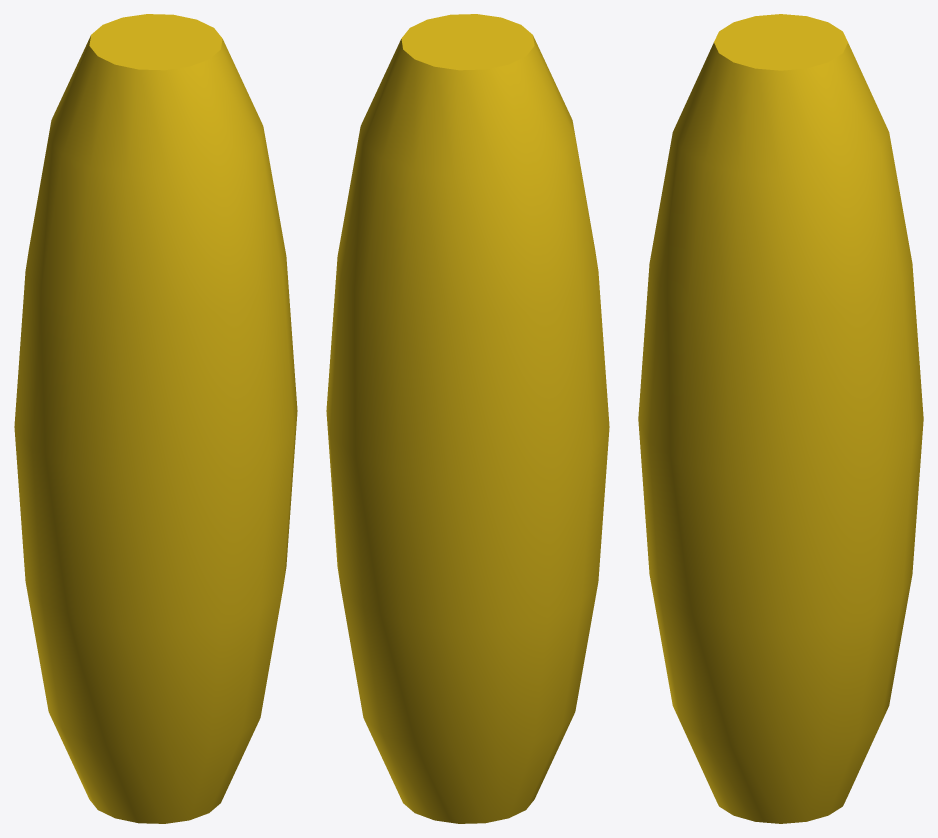
File: roller.glb
3 renders of one model, left to right at view 1: azimuth 30°, elevation 25°; view 2: azimuth 150°, elevation 25°; view 3: azimuth 270°, elevation 25°, orthographic.
Parts seen in each view (by area): view 1: Roller; view 2: Roller; view 3: Roller.
Boxes of the visible parts, x1=… form: Roller: x1=14, y1=14, x2=297, y2=823; Roller: x1=326, y1=14, x2=609, y2=823; Roller: x1=638, y1=14, x2=923, y2=823.
Bounding box in the file's own units: 0.00956 × 0.0279 × 0.00956.
